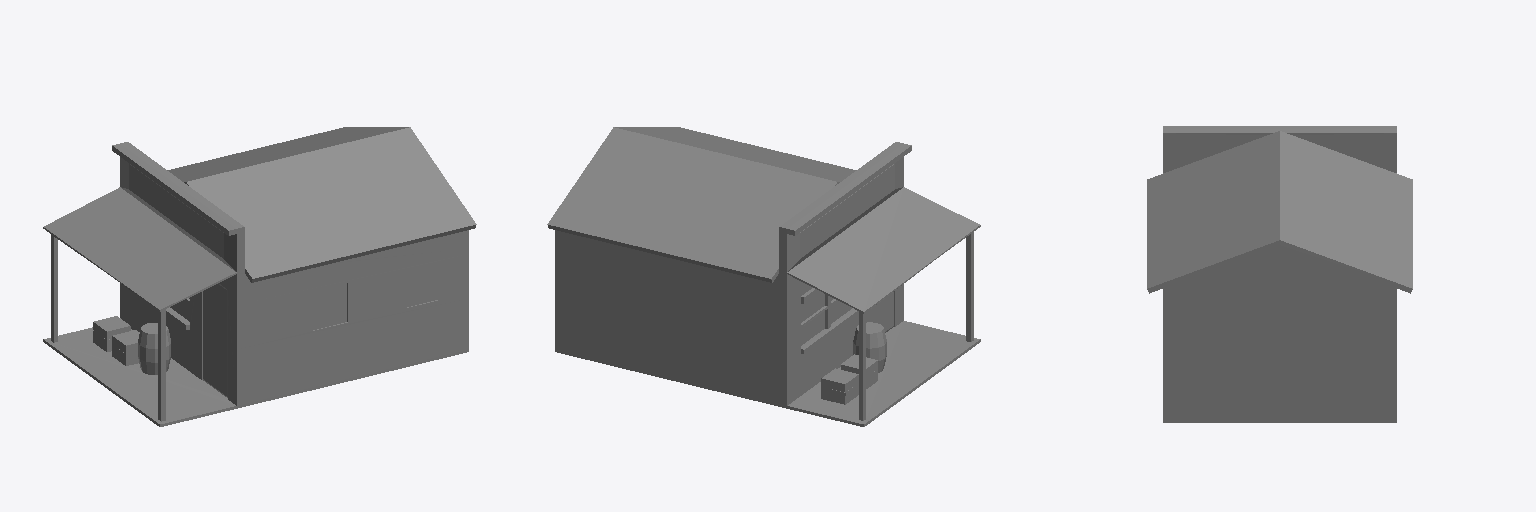
The picture shows the model from 3 angles: view 1: azimuth 30°, elevation 25°; view 2: azimuth 150°, elevation 25°; view 3: azimuth 270°, elevation 25°; orthographic projection.
Visible parts, largest first — view 1: g_store001; view 2: g_store001; view 3: g_store001.
Part boxes in pixels (left/top/right/bottom): g_store001: left=43, top=127, right=476, bottom=426; g_store001: left=547, top=127, right=980, bottom=426; g_store001: left=1147, top=126, right=1412, bottom=422.
Size of the model in its own units: 64.09 by 36.18 by 47.75.